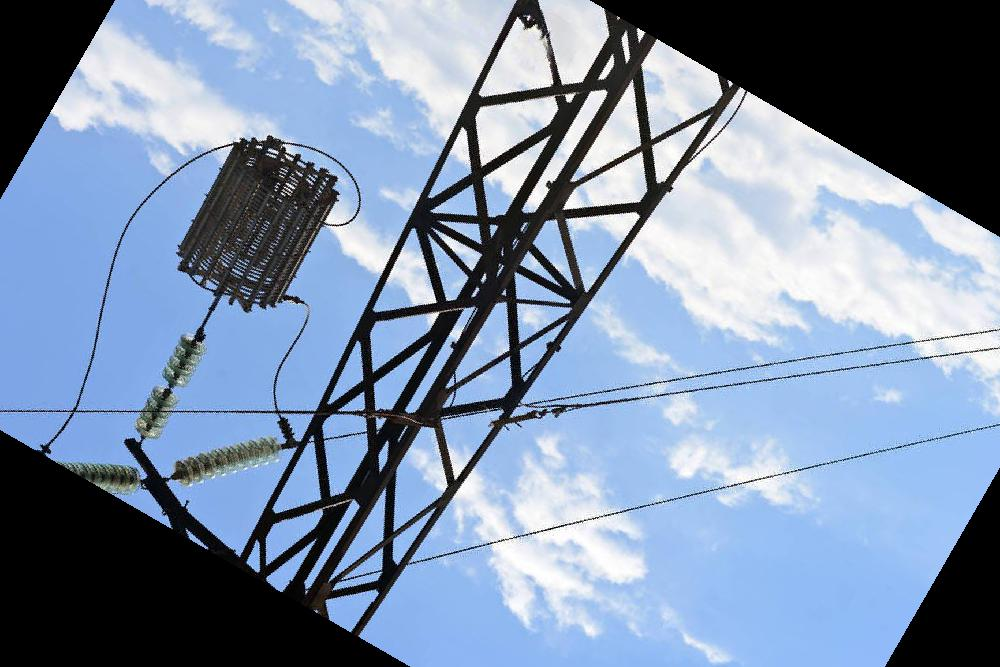insulator: (130, 326, 211, 442), (171, 432, 284, 488), (58, 457, 143, 501)
insulator_stringdrop: (147, 365, 191, 407)
